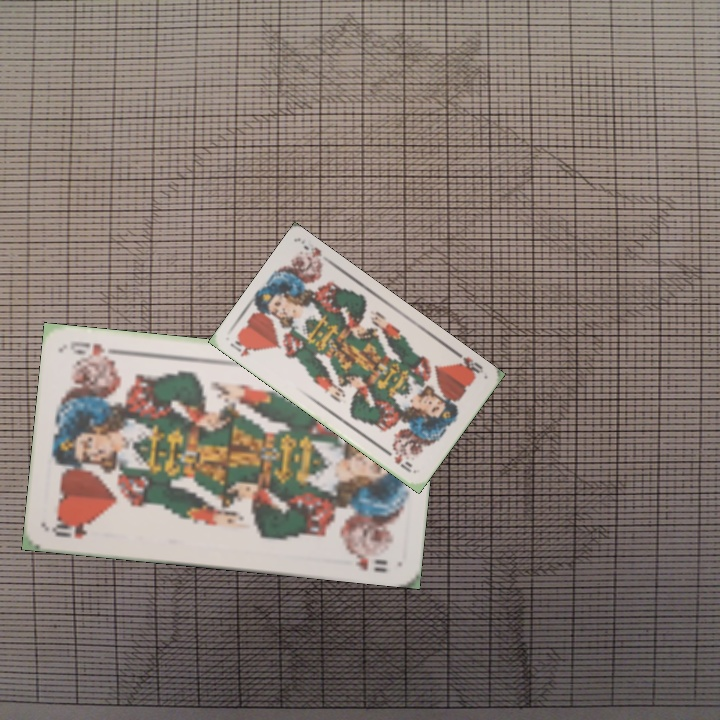HO: (48, 517, 95, 542), (451, 347, 486, 380), (226, 333, 258, 359)
